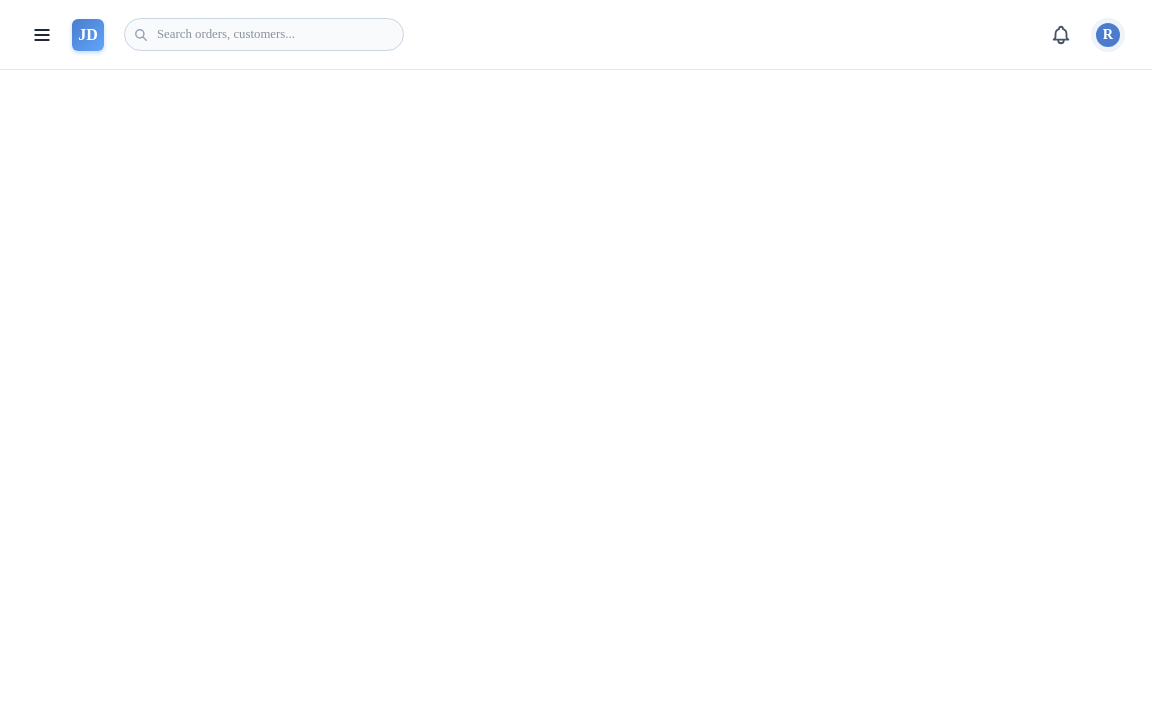
Navbar Component Unit Tests › should close dropdown when clicking outside
Click the button with test id "user-profile-btn" at (1108, 34), box [1088,14,1128,54]
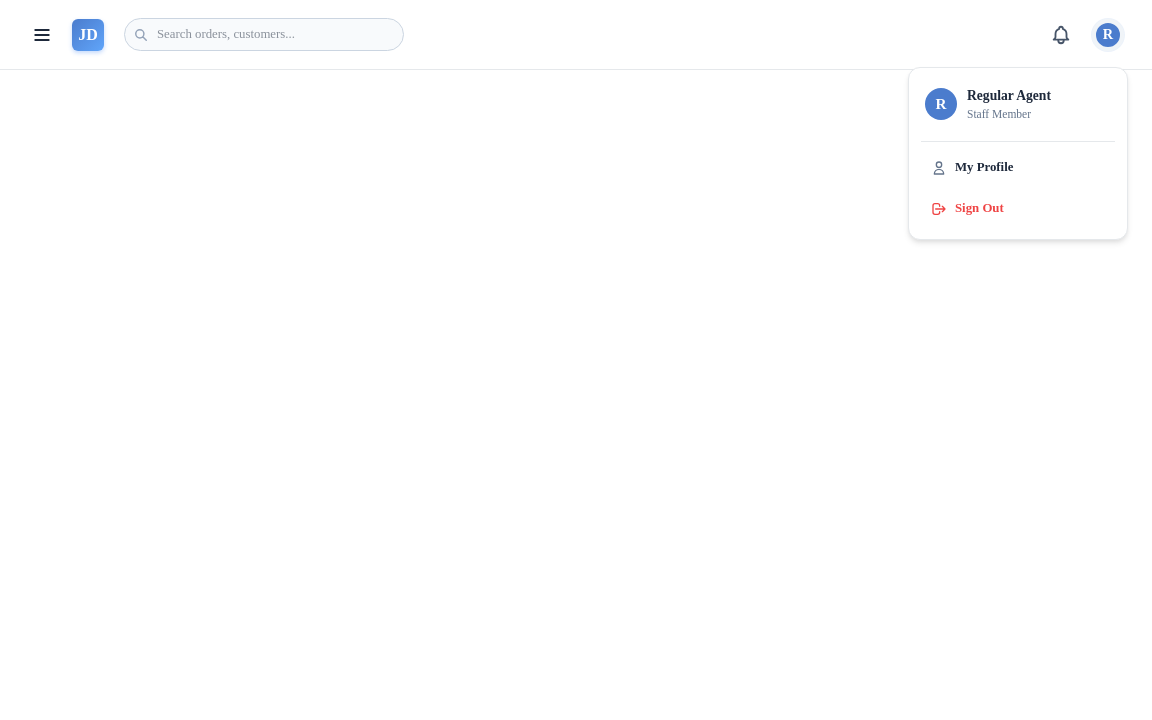
Result: the element with test id "profile-dropdown-menu" is shown at [908,66,1128,240]
Press the mouse on the element showing "JD R R Regular Agent Staff Member My Profile Sign Out" at (576, 360), box [0,0,1151,719]
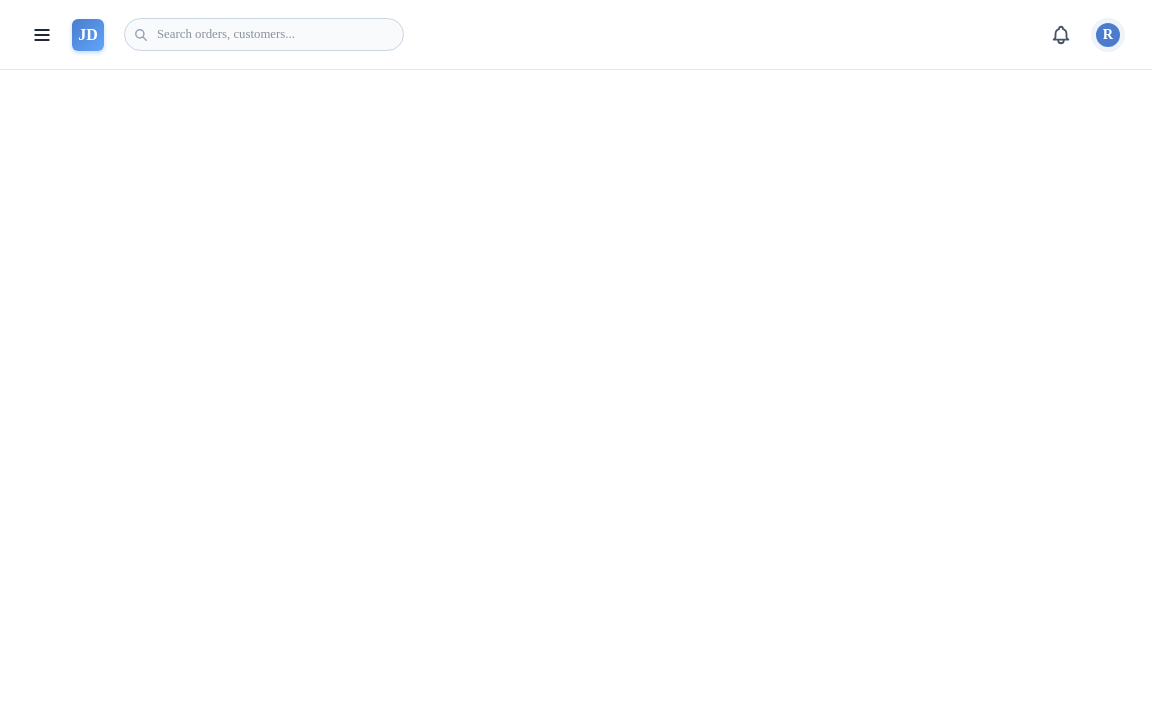
Result: the element with test id "profile-dropdown-menu" is gone
